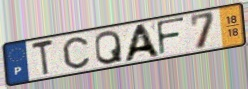7: (190, 10, 218, 51)
A: (121, 22, 163, 64)
C: (60, 36, 91, 70)
F: (155, 16, 187, 57)
Q: (94, 28, 125, 66)
T: (30, 37, 56, 78)
